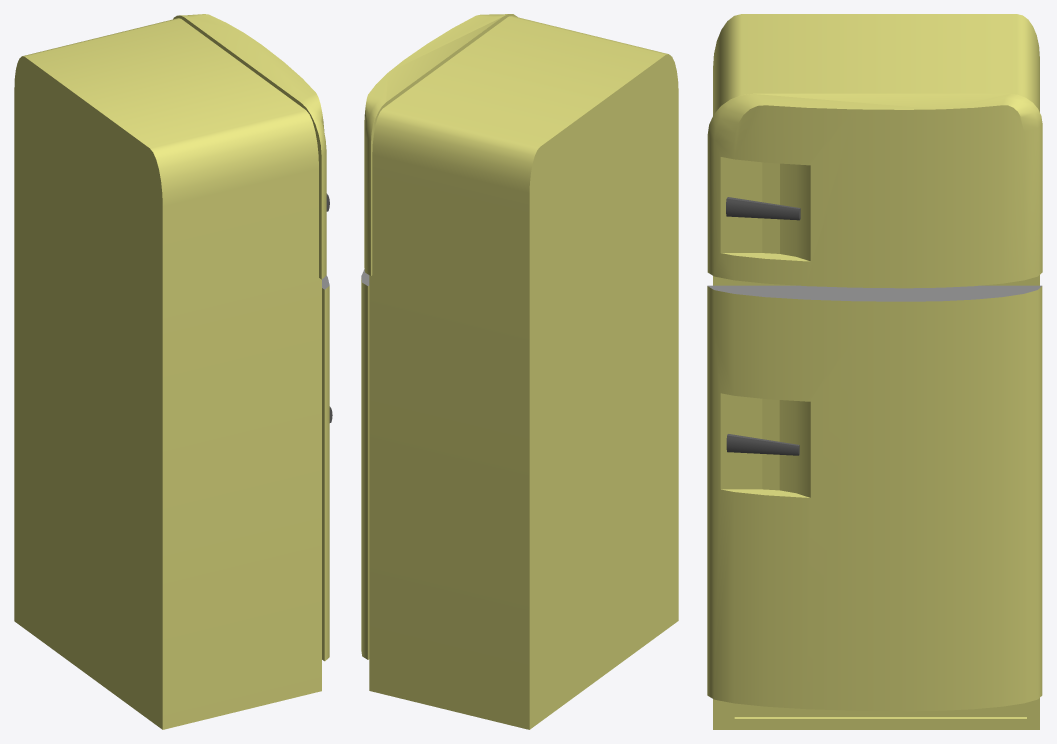
The model's file is fridge.fbx.
3 renders of one model, left to right at view 1: azimuth 30°, elevation 25°; view 2: azimuth 150°, elevation 25°; view 3: azimuth 270°, elevation 25°, orthographic. The views are drawn at different scales.
Visible parts, largest first — view 1: Cube, Cube.003, Cube.001; view 2: Cube, Cube.003, Cube.001; view 3: Cube.001, Cube.003, Cube.
Boxes of the visible parts, x1=… form: Cube: x1=14, y1=18, x2=321, y2=729; Cube.003: x1=173, y1=14, x2=329, y2=279; Cube.001: x1=322, y1=275, x2=332, y2=661; Cube: x1=369, y1=16, x2=678, y2=729; Cube.003: x1=364, y1=14, x2=517, y2=275; Cube.001: x1=361, y1=269, x2=369, y2=659; Cube.001: x1=707, y1=285, x2=1042, y2=711; Cube.003: x1=707, y1=93, x2=1042, y2=288; Cube: x1=713, y1=14, x2=1039, y2=729.
Size of the model in its own units: 238 by 693 by 332.
